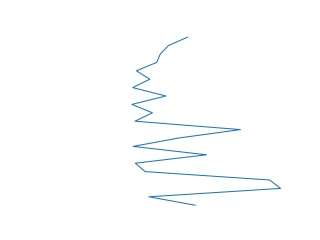crevasseRiverBedLagDeposit: (127, 33, 286, 211)
